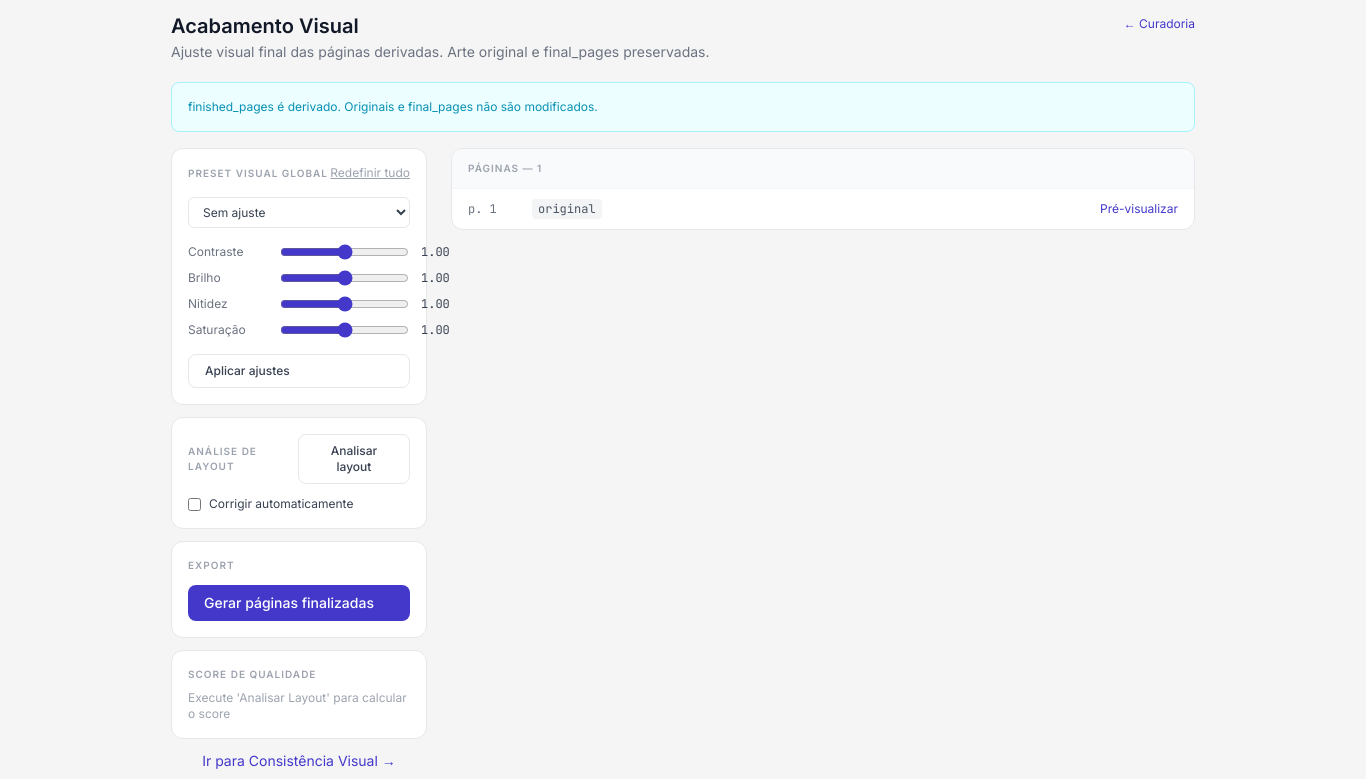
Test: ComicFinishPage — Fase N.A › botão export dispara exportComicFinish e exibe links de download
Click the button "Gerar páginas finalizadas": coordinates (299, 603) [188,585,410,621]
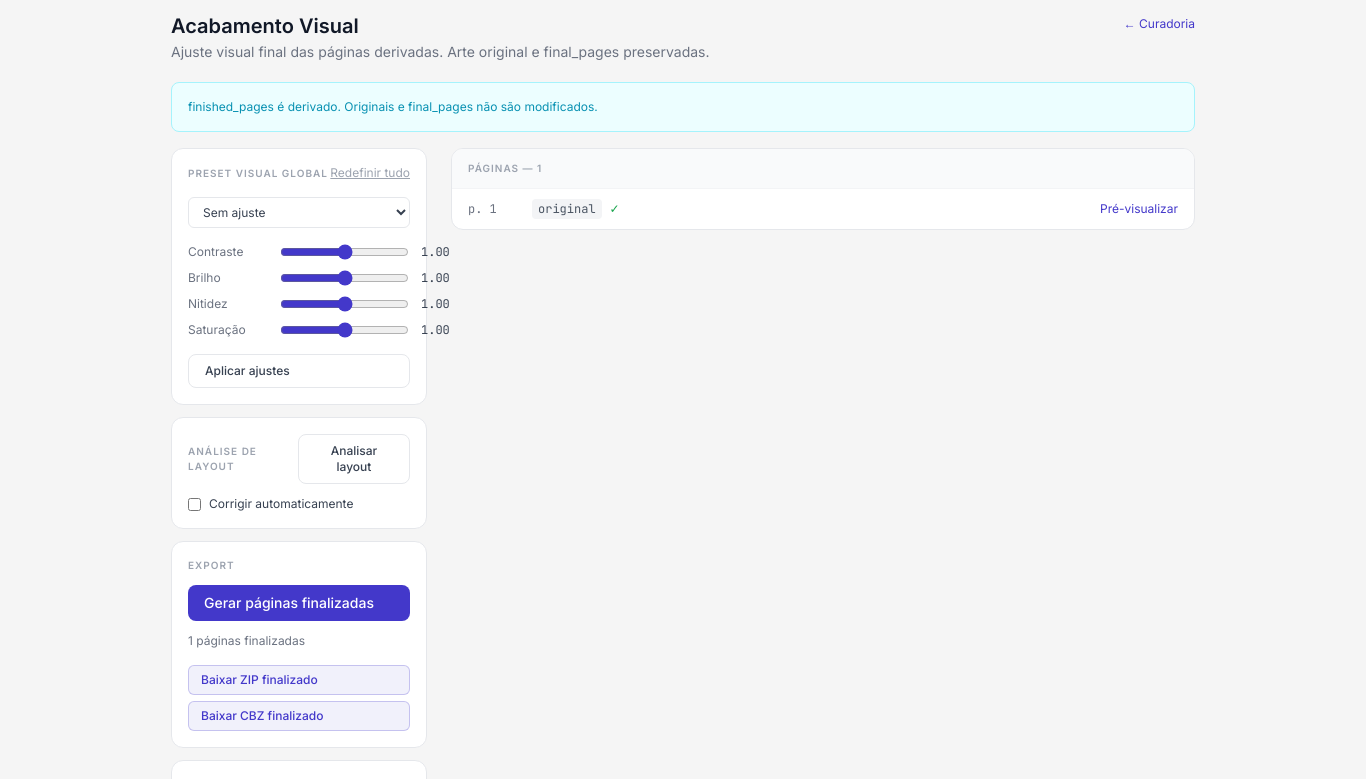
Result: the link "Baixar ZIP finalizado" is shown at [188,665,410,695]
